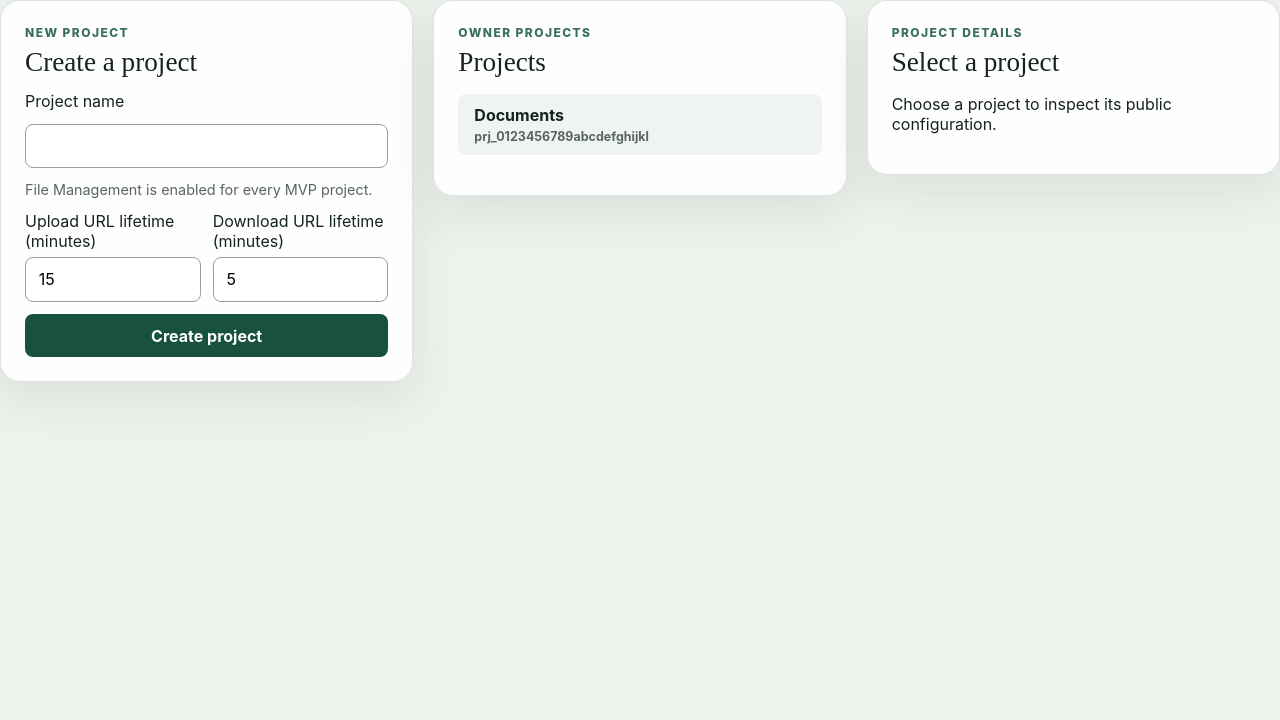
it: selected project experience › loads owner key metadata and usage while teaching server-authorized direct transfers
The image size is (1280, 720).
What coordinates should you click on to do the following:
click the button "Documents prj_0123456789abcdefghijkl"
I would click on:
 (519, 115)
Its box is x1=458 y1=94 x2=822 y2=155.
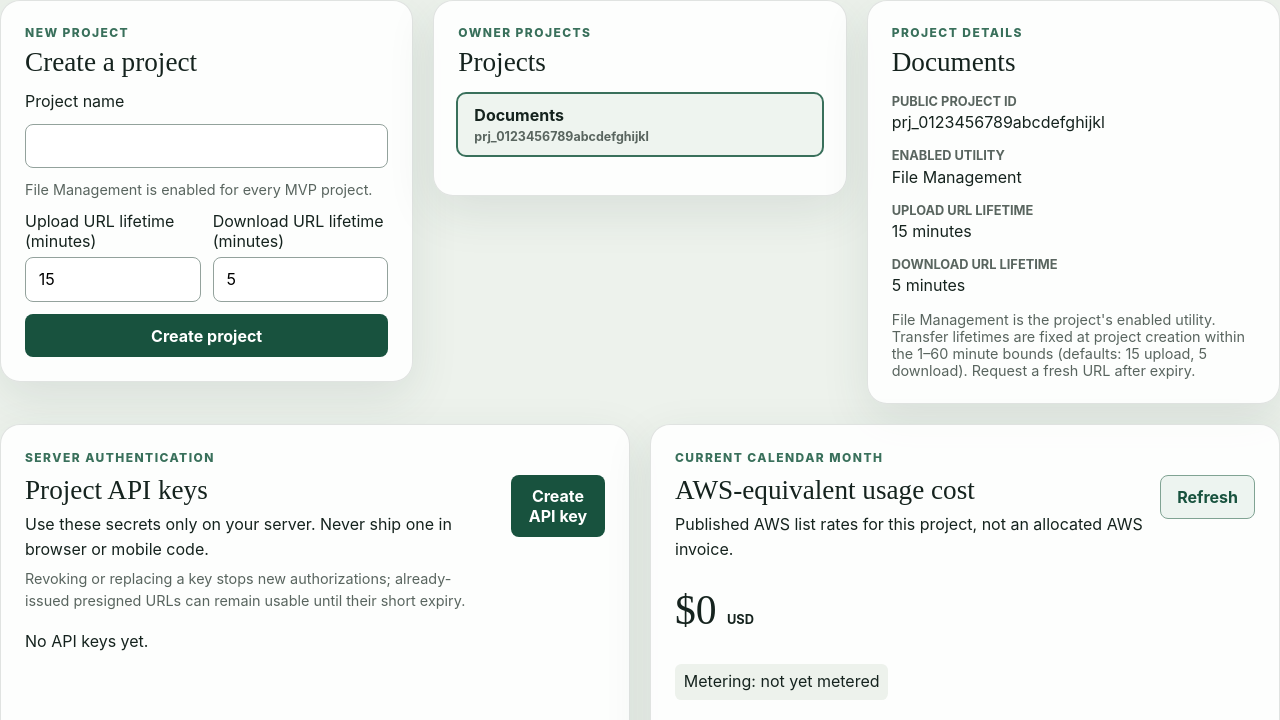
Result: the heading "Project API keys" is shown at x1=25 y1=475 x2=208 y2=505
Result: the heading "AWS-equivalent usage cost" is shown at x1=675 y1=475 x2=975 y2=505
Result: the text "prj_0123456789abcdefghijkl" below "Public project ID" is shown at x1=892 y1=112 x2=1105 y2=132
